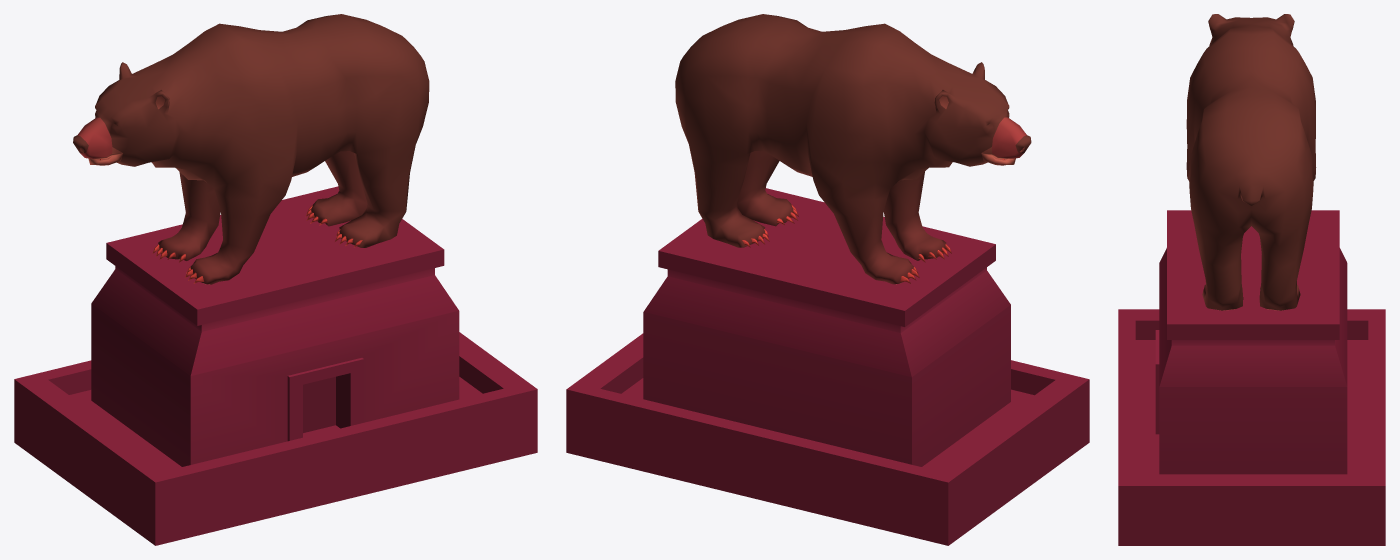
The model's file is The_Grizzly_Bear_Red.fbx.
The picture shows the model from 3 angles, left to right: view 1: azimuth 30°, elevation 25°; view 2: azimuth 150°, elevation 25°; view 3: azimuth 270°, elevation 25°; orthographic projection. The views are drawn at different scales.
Parts seen in each view (by area): view 1: The_Grizzly_Bear_Red; view 2: The_Grizzly_Bear_Red; view 3: The_Grizzly_Bear_Red.
Part boxes in pixels (x1,y1,x2,y2): The_Grizzly_Bear_Red: [14, 14, 537, 545]; The_Grizzly_Bear_Red: [566, 14, 1089, 545]; The_Grizzly_Bear_Red: [1118, 14, 1385, 545].
Size of the model in its own units: 550 by 568 by 341.
